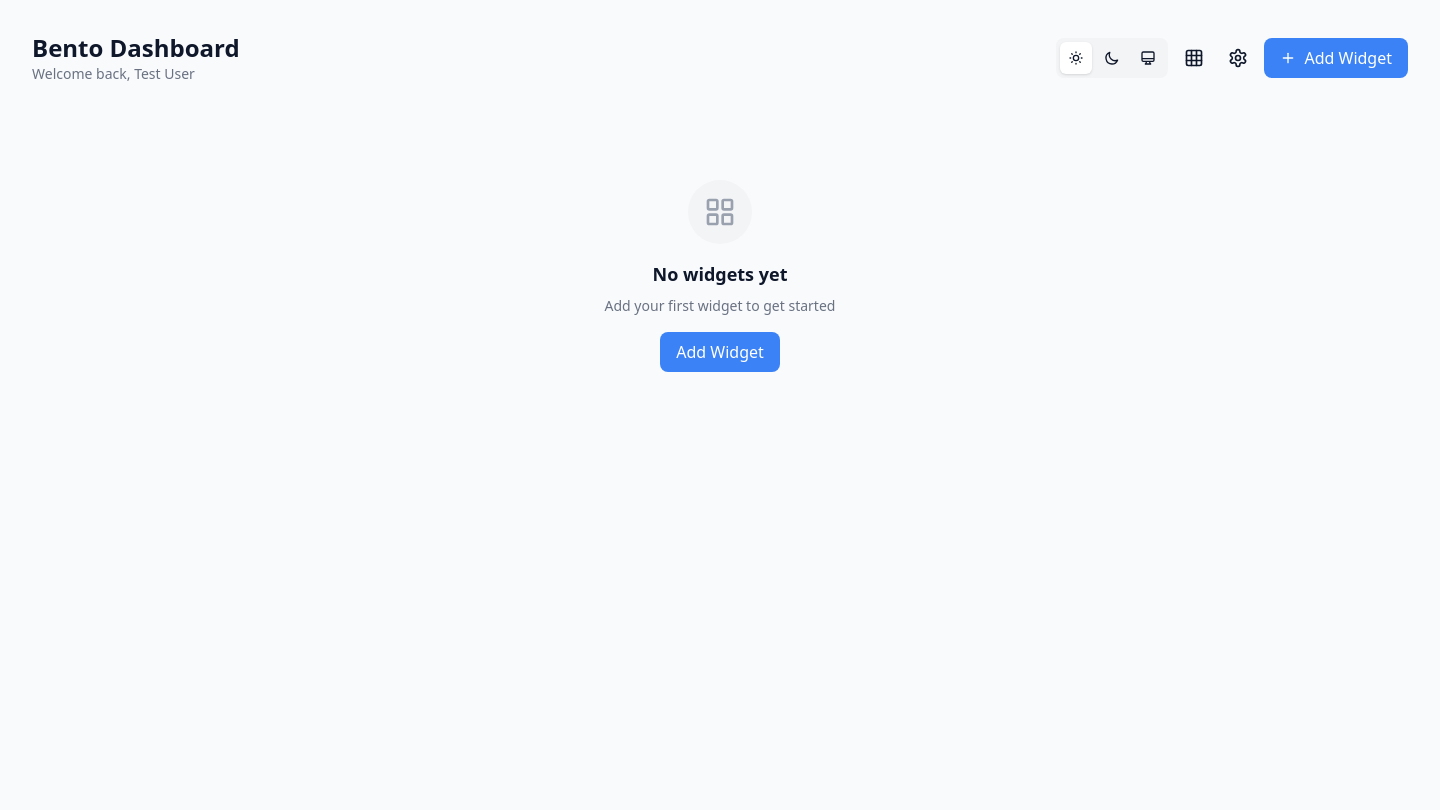
Scenario: Dashboard › opens settings panel when settings button is clicked
What coordinates should you click on to do the following:
click the button named "Open settings"
I would click on:
 (1238, 58)
Its box is [1220,40,1256,76].
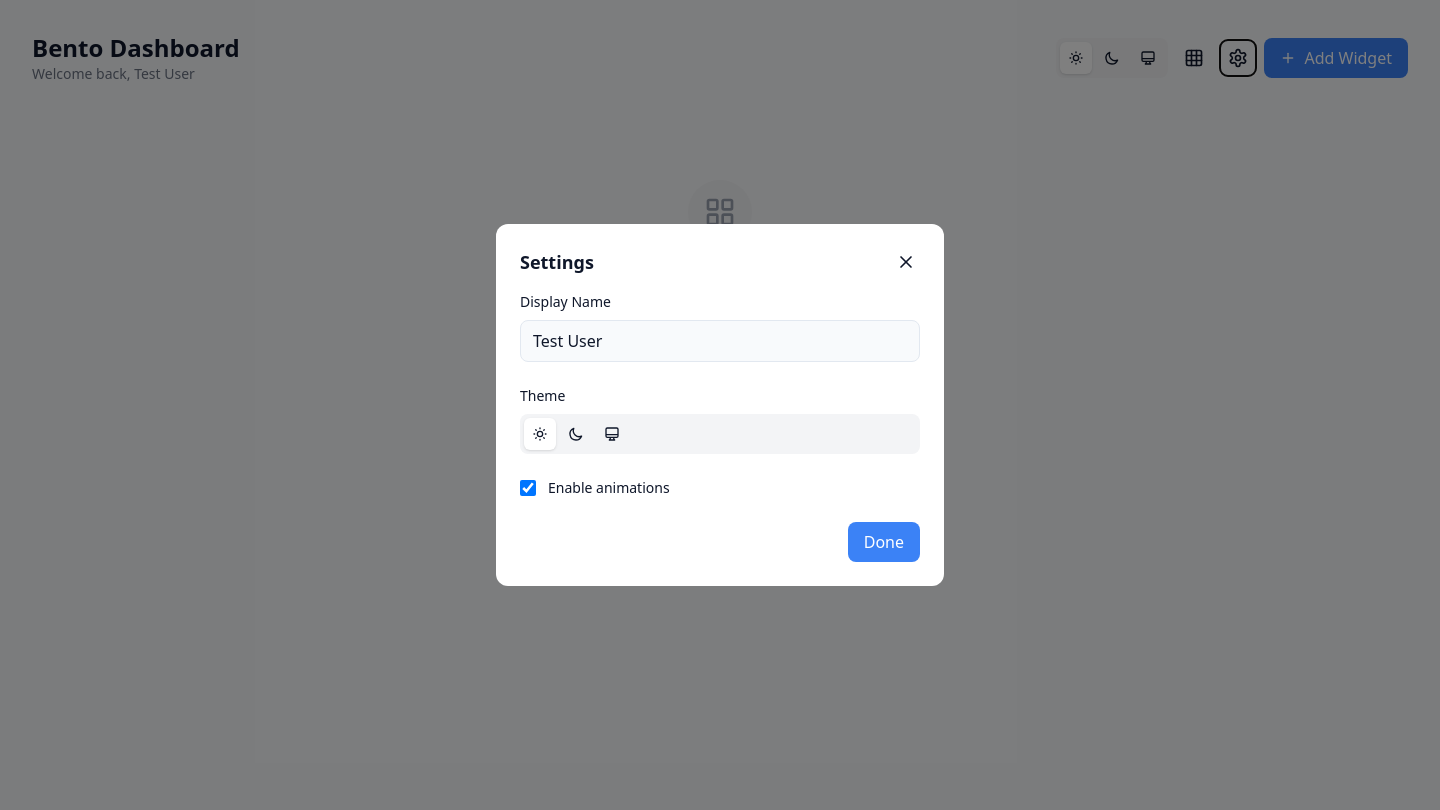
Check: the heading "Settings" is shown, box [520,248,594,276]
Check: the field labelled "Display Name" is shown, box [520,320,920,362]
